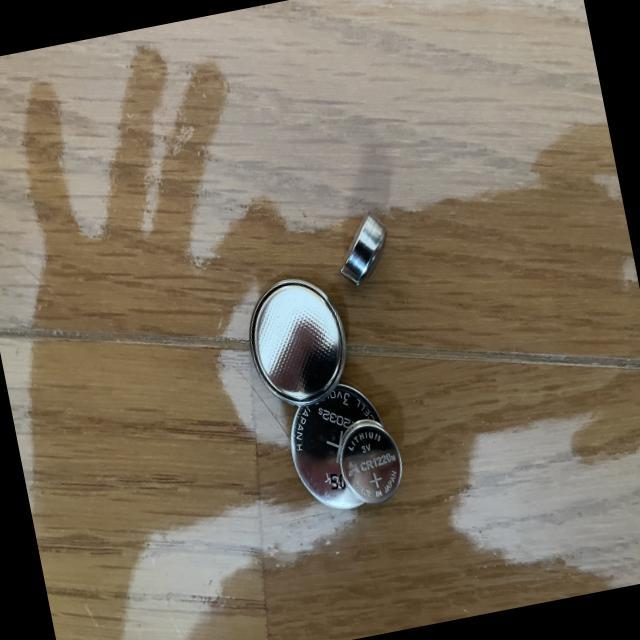COIN: (234, 268, 360, 416), (278, 373, 403, 520), (331, 412, 412, 508), (330, 205, 400, 292)
